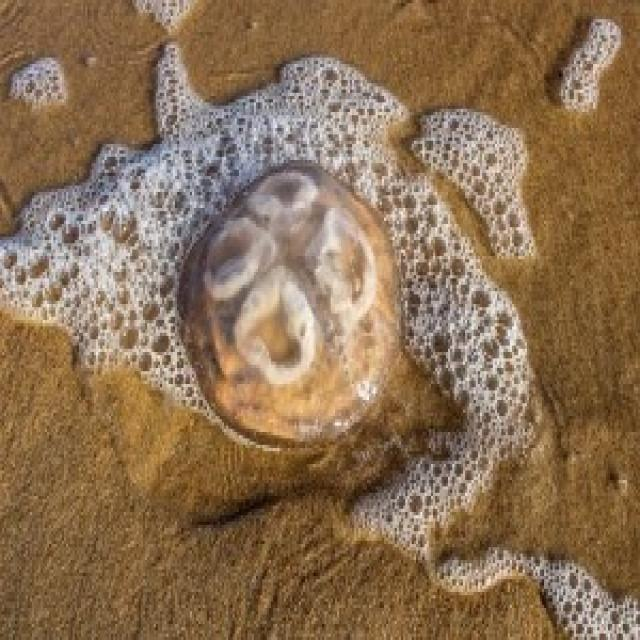Jellyfish: (168, 155, 411, 450)
